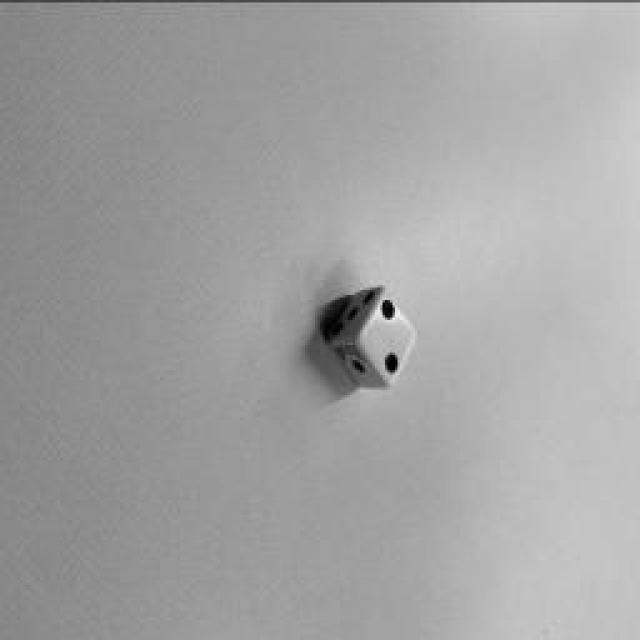dice_2: (359, 287, 416, 385)
